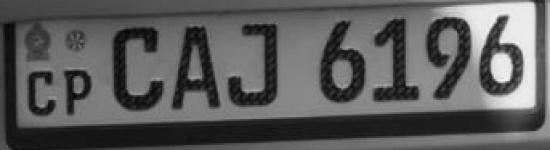1: (370, 13, 422, 106)
4: (23, 65, 61, 119)
6: (478, 10, 532, 105), (316, 13, 368, 107)
9: (422, 12, 480, 108)
A: (170, 22, 224, 115)
C: (107, 20, 169, 115)
J: (226, 18, 288, 113)
P: (62, 63, 97, 120)
